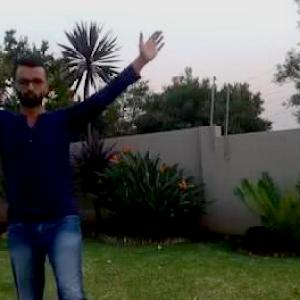takeoff: (1, 39, 158, 299)
